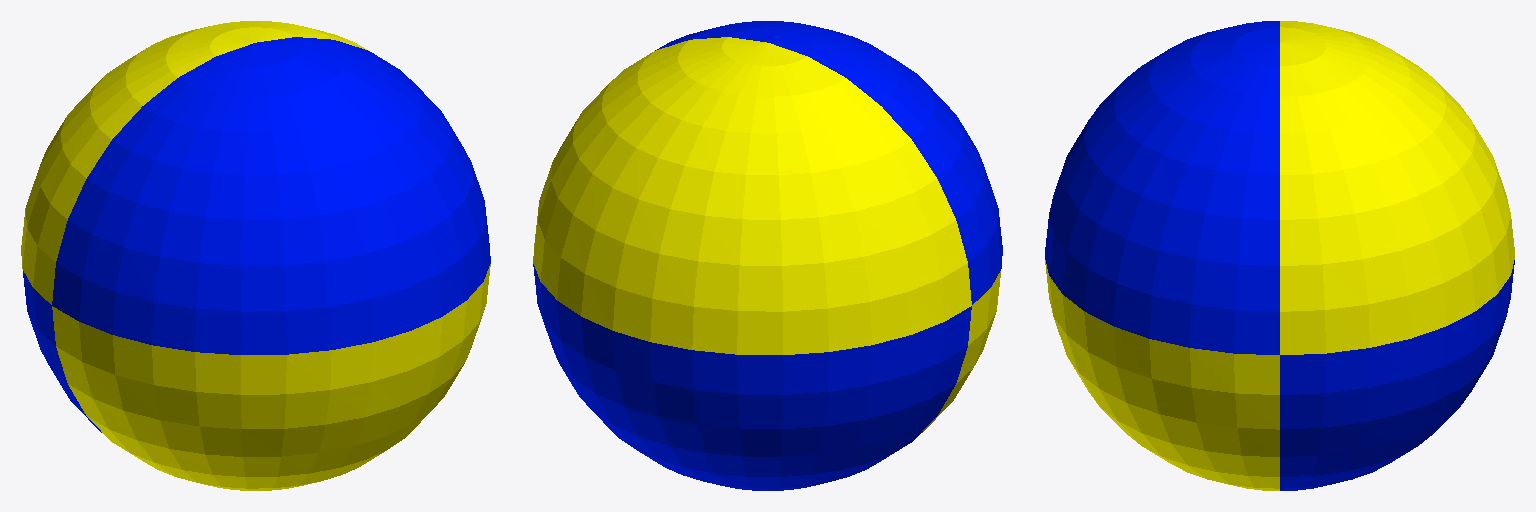
3 views of the same model, side by side, from view 1: azimuth 30°, elevation 25°; view 2: azimuth 150°, elevation 25°; view 3: azimuth 270°, elevation 25° (orthographic).
Parts seen in each view (by area): view 1: Sphere; view 2: Sphere; view 3: Sphere.
Boxes of the visible parts, x1,y1,x2,y2 form: Sphere: [21, 21, 490, 490]; Sphere: [533, 21, 1002, 490]; Sphere: [1045, 21, 1514, 490].
Size of the model in its own units: 0.005 by 0.005 by 0.005.
Materials: 1 (1 with a texture image).